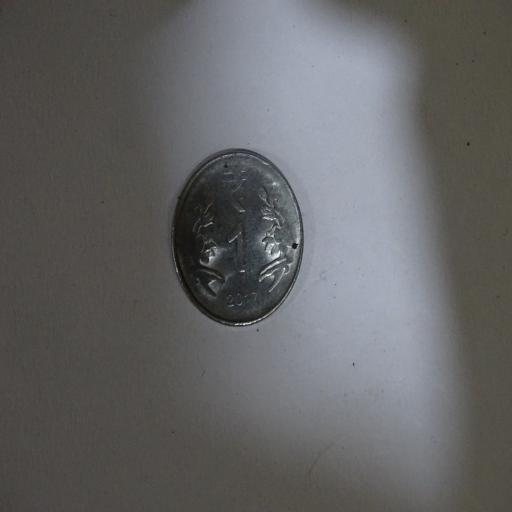rupee1: (168, 147, 306, 331)
